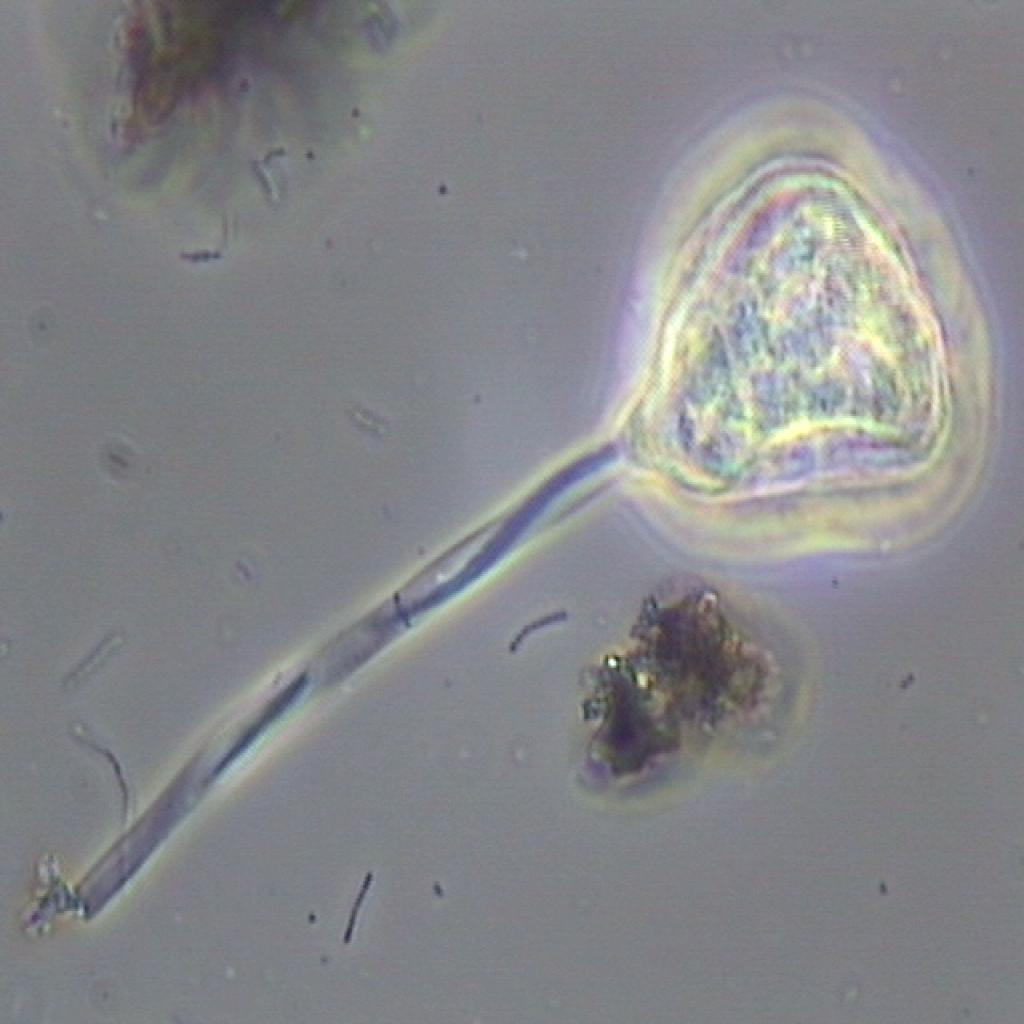Vorticella: (114, 128, 1004, 655)
